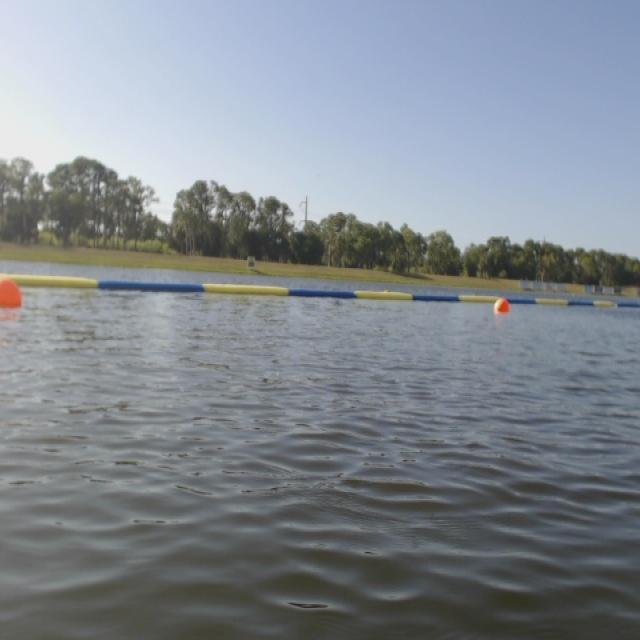Orange__Buoy: (3, 272, 26, 322), (495, 295, 515, 324)
